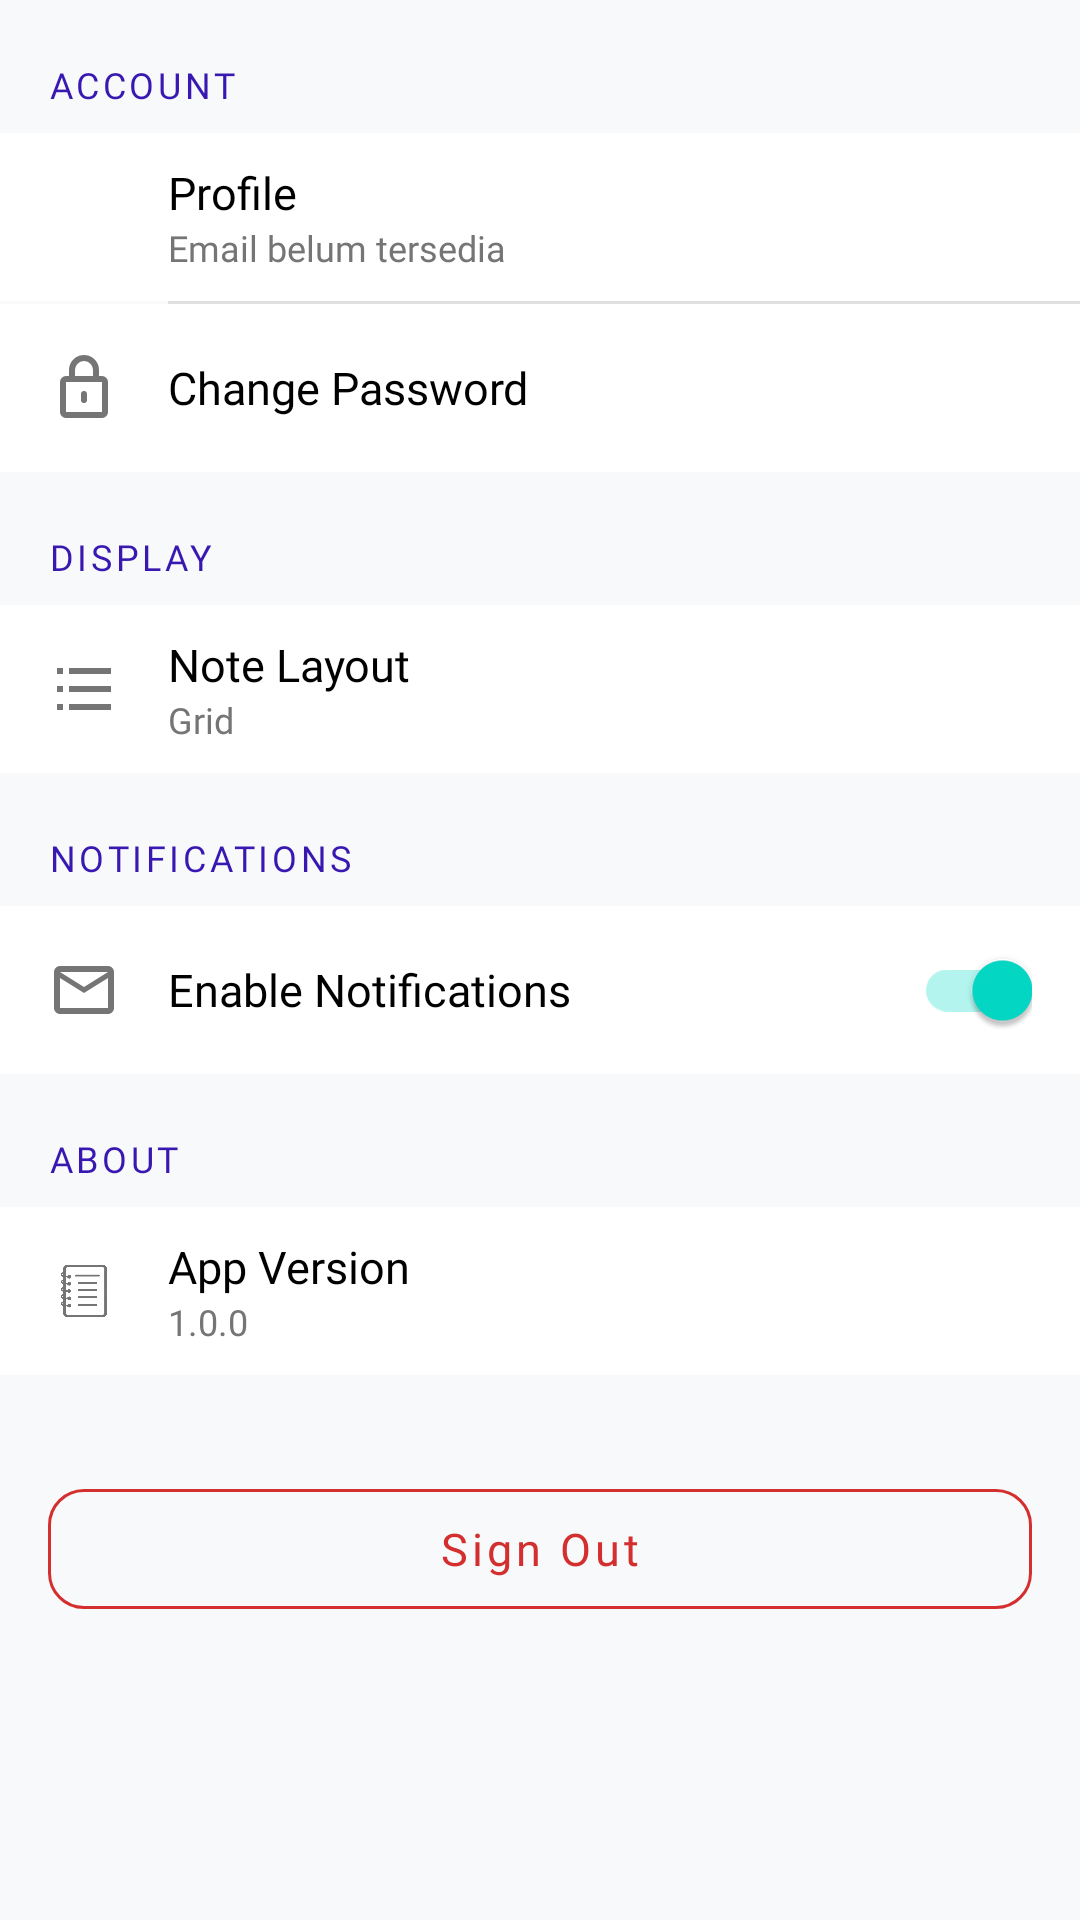

Icon click points for this 1080 x 1920 phone screenshot, format (x,y):
email: (84,990)
format list bulleted: (84,689)
lock: (84,386)
